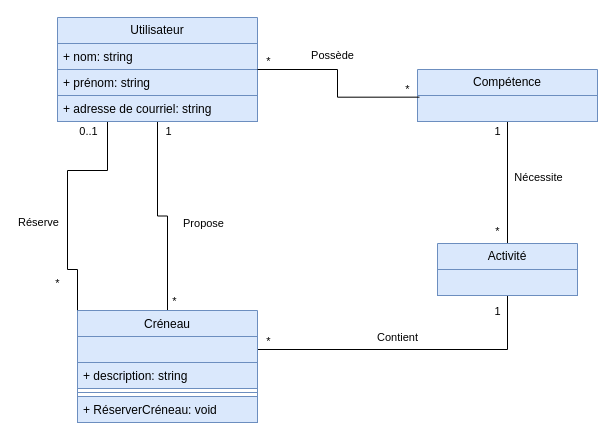
The diagram is 615 pixels wide and 443 high, and some of its shapes have lost their labels. Each missing label, with the centre of its shape:
"+ date: LocalDateTime" goes at point (167, 349).
"+ nom_activité: string" goes at point (507, 282).
"+ nom_compétence: string" goes at point (507, 108).
